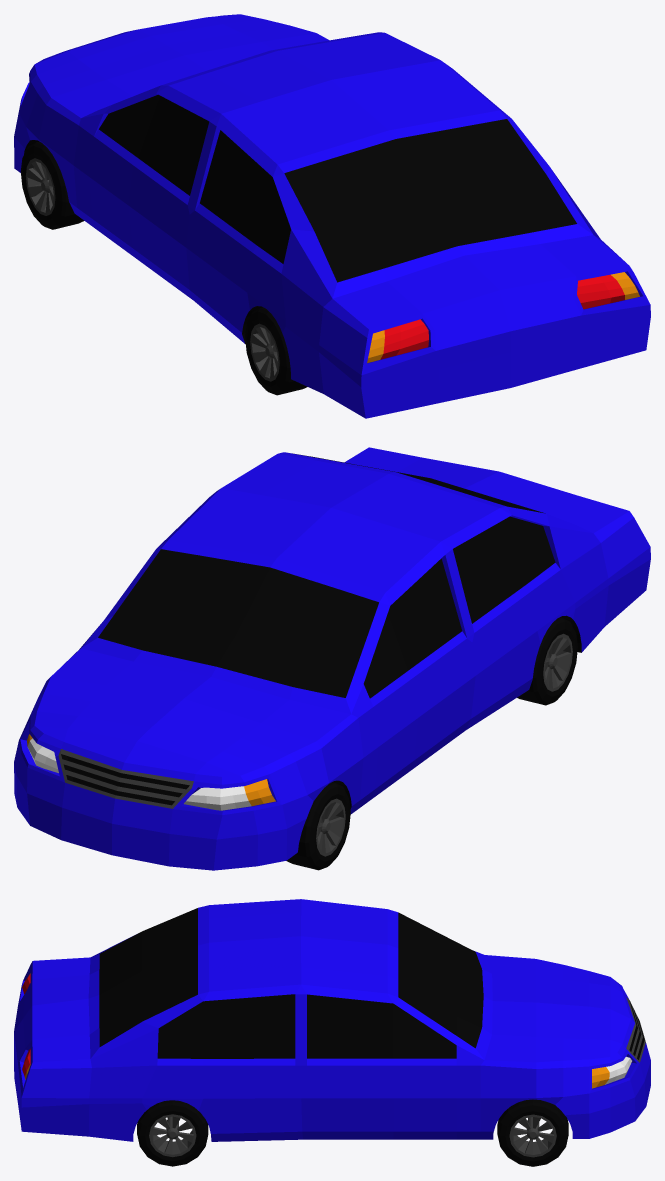
The model's file is sedan2.fbx.
3 views of the same model, one above another, from view 1: azimuth 30°, elevation 25°; view 2: azimuth 150°, elevation 25°; view 3: azimuth 270°, elevation 25° (orthographic). The views are drawn at different scales.
Visible parts, largest first — view 1: Sedan, Wheel.003, Wheel.002; view 2: Sedan, Wheel.003, Wheel.002; view 3: Sedan, Wheel, Wheel.001.
Boxes of the visible parts, <box> form: Sedan: <box>14,14,650,418</box>; Wheel.003: <box>20,141,84,229</box>; Wheel.002: <box>245,307,307,395</box>; Sedan: <box>14,447,650,870</box>; Wheel.003: <box>286,782,350,870</box>; Wheel.002: <box>517,617,577,705</box>; Sedan: <box>14,899,650,1141</box>; Wheel: <box>497,1099,568,1166</box>; Wheel.001: <box>137,1100,208,1166</box>.
Size of the model in its own units: 227 by 160 by 530.
